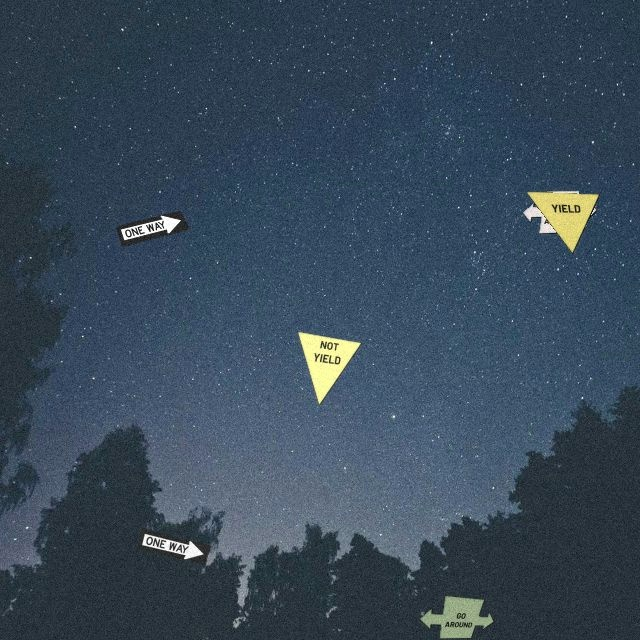DO_NOT_GO_AROUND: (522, 190, 597, 234)
GO_AROUND: (419, 595, 494, 639)
NOT_YIELD: (297, 331, 362, 406)
ONE_WAY_ right: (136, 527, 211, 565), (115, 210, 190, 247)
YIELD: (525, 191, 600, 254)
